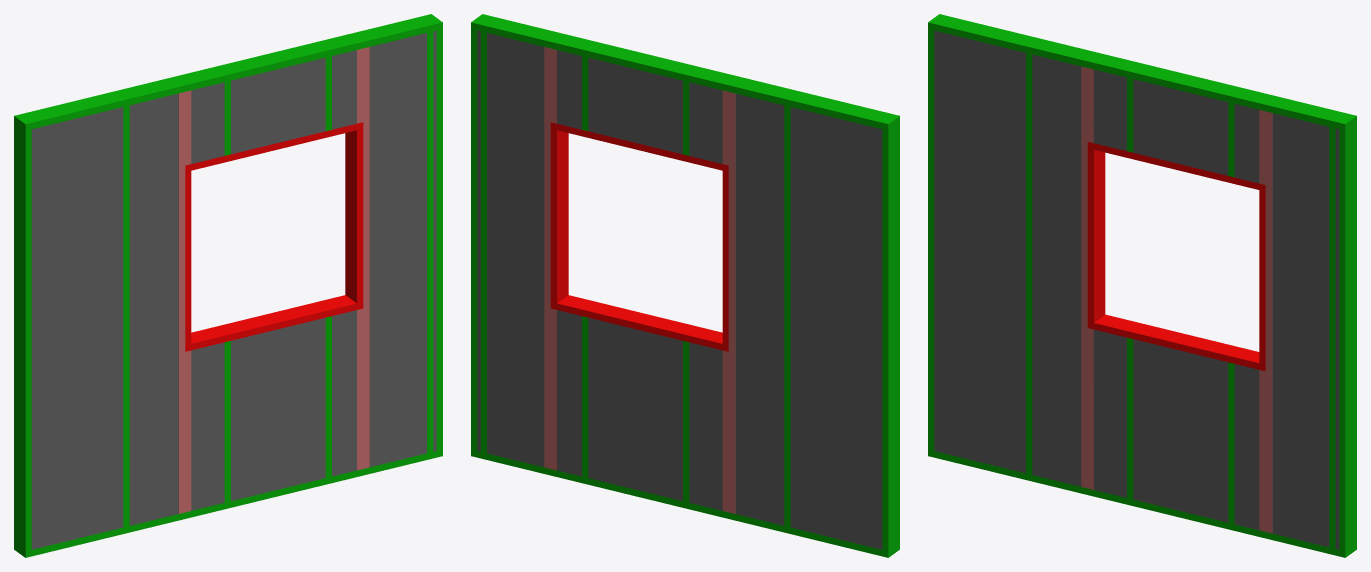
File: result.glb
3 views of the same model, side by side, from view 1: azimuth 30°, elevation 25°; view 2: azimuth 150°, elevation 25°; view 3: azimuth 330°, elevation 25° (orthographic).
Visible parts, largest first — view 1: c43186cd-cca0-4cd8-822e-112844c010d2__undefined, 6406b3a0-2b16-4bc1-94ac-7ab14961befd__undefined, ab630891-8b70-4fee-b545-52c169589d08__undefined, 14b1b70e-807d-4171-885c-bdac1132f8e3__undefined, af051829-252c-45c4-8782-77f385ae97b2__undefined, 05aac3ac-e274-4364-bee9-a1e62d0a8262__undefined, 094f6051-484f-42f7-8db3-888324bc1f29__undefined, f755160d-487f-4156-94f8-e8ed9564ac3d__undefined, 162b48e8-5092-427a-a6a5-3302c010df2a__undefined, 6dc3b1ce-3c11-4a77-8eb4-d4cdc3d5f2e1__undefined, d74f65d0-4813-4b06-89c7-f4ab20582bbe__frameRight, 92eee44d-4cd2-4de0-99d3-6ae736a5a68b__undefined (+14 smaller); view 2: c43186cd-cca0-4cd8-822e-112844c010d2__undefined, 6406b3a0-2b16-4bc1-94ac-7ab14961befd__undefined, ab630891-8b70-4fee-b545-52c169589d08__undefined, 14b1b70e-807d-4171-885c-bdac1132f8e3__undefined, af051829-252c-45c4-8782-77f385ae97b2__undefined, 05aac3ac-e274-4364-bee9-a1e62d0a8262__undefined, 094f6051-484f-42f7-8db3-888324bc1f29__undefined, f755160d-487f-4156-94f8-e8ed9564ac3d__undefined, 162b48e8-5092-427a-a6a5-3302c010df2a__undefined, 6dc3b1ce-3c11-4a77-8eb4-d4cdc3d5f2e1__undefined, d74f65d0-4813-4b06-89c7-f4ab20582bbe__frameRight, 92eee44d-4cd2-4de0-99d3-6ae736a5a68b__undefined (+14 smaller); view 3: c43186cd-cca0-4cd8-822e-112844c010d2__undefined, 6406b3a0-2b16-4bc1-94ac-7ab14961befd__undefined, ab630891-8b70-4fee-b545-52c169589d08__undefined, 14b1b70e-807d-4171-885c-bdac1132f8e3__undefined, af051829-252c-45c4-8782-77f385ae97b2__undefined, e946c9e1-8c10-44a5-9225-12ad92e219d7__undefined, 094f6051-484f-42f7-8db3-888324bc1f29__undefined, f755160d-487f-4156-94f8-e8ed9564ac3d__undefined, 162b48e8-5092-427a-a6a5-3302c010df2a__undefined, fe992bf5-756b-4db1-a935-9eb1a053394a__undefined, af962491-0eb2-49f7-a39c-f1177534f768__frameLeft, 92eee44d-4cd2-4de0-99d3-6ae736a5a68b__undefined (+14 smaller).
Boxes of the visible parts, left/top/right/bottom form: c43186cd-cca0-4cd8-822e-112844c010d2__undefined: left=31, top=107, right=123, bottom=549; 6406b3a0-2b16-4bc1-94ac-7ab14961befd__undefined: left=369, top=33, right=426, bottom=467; ab630891-8b70-4fee-b545-52c169589d08__undefined: left=129, top=93, right=178, bottom=525; 14b1b70e-807d-4171-885c-bdac1132f8e3__undefined: left=231, top=317, right=325, bottom=500; af051829-252c-45c4-8782-77f385ae97b2__undefined: left=14, top=14, right=442, bottom=130; 05aac3ac-e274-4364-bee9-a1e62d0a8262__undefined: left=14, top=122, right=31, bottom=551; 094f6051-484f-42f7-8db3-888324bc1f29__undefined: left=231, top=57, right=325, bottom=154; f755160d-487f-4156-94f8-e8ed9564ac3d__undefined: left=191, top=342, right=224, bottom=510; 162b48e8-5092-427a-a6a5-3302c010df2a__undefined: left=332, top=310, right=356, bottom=476; 6dc3b1ce-3c11-4a77-8eb4-d4cdc3d5f2e1__undefined: left=178, top=92, right=185, bottom=513; d74f65d0-4813-4b06-89c7-f4ab20582bbe__frameRight: left=345, top=129, right=363, bottom=303; 92eee44d-4cd2-4de0-99d3-6ae736a5a68b__undefined: left=14, top=449, right=442, bottom=557; c43186cd-cca0-4cd8-822e-112844c010d2__undefined: left=790, top=107, right=882, bottom=549; 6406b3a0-2b16-4bc1-94ac-7ab14961befd__undefined: left=487, top=33, right=544, bottom=467; ab630891-8b70-4fee-b545-52c169589d08__undefined: left=735, top=93, right=784, bottom=525; 14b1b70e-807d-4171-885c-bdac1132f8e3__undefined: left=588, top=317, right=682, bottom=500; af051829-252c-45c4-8782-77f385ae97b2__undefined: left=471, top=14, right=899, bottom=130; 05aac3ac-e274-4364-bee9-a1e62d0a8262__undefined: left=882, top=122, right=899, bottom=551; 094f6051-484f-42f7-8db3-888324bc1f29__undefined: left=588, top=57, right=682, bottom=154; f755160d-487f-4156-94f8-e8ed9564ac3d__undefined: left=689, top=342, right=722, bottom=510; 162b48e8-5092-427a-a6a5-3302c010df2a__undefined: left=557, top=310, right=581, bottom=476; 6dc3b1ce-3c11-4a77-8eb4-d4cdc3d5f2e1__undefined: left=728, top=92, right=735, bottom=513; d74f65d0-4813-4b06-89c7-f4ab20582bbe__frameRight: left=550, top=129, right=568, bottom=303; 92eee44d-4cd2-4de0-99d3-6ae736a5a68b__undefined: left=471, top=449, right=899, bottom=557; c43186cd-cca0-4cd8-822e-112844c010d2__undefined: left=934, top=30, right=1025, bottom=473; 6406b3a0-2b16-4bc1-94ac-7ab14961befd__undefined: left=1272, top=113, right=1329, bottom=547; ab630891-8b70-4fee-b545-52c169589d08__undefined: left=1032, top=54, right=1081, bottom=486; 14b1b70e-807d-4171-885c-bdac1132f8e3__undefined: left=1133, top=339, right=1228, bottom=522; af051829-252c-45c4-8782-77f385ae97b2__undefined: left=928, top=14, right=1356, bottom=130; e946c9e1-8c10-44a5-9225-12ad92e219d7__undefined: left=1339, top=122, right=1356, bottom=551; 094f6051-484f-42f7-8db3-888324bc1f29__undefined: left=1133, top=79, right=1228, bottom=175; f755160d-487f-4156-94f8-e8ed9564ac3d__undefined: left=1093, top=329, right=1126, bottom=497; 162b48e8-5092-427a-a6a5-3302c010df2a__undefined: left=1234, top=364, right=1259, bottom=530; fe992bf5-756b-4db1-a935-9eb1a053394a__undefined: left=1265, top=111, right=1272, bottom=533; af962491-0eb2-49f7-a39c-f1177534f768__frameLeft: left=1087, top=148, right=1105, bottom=322; 92eee44d-4cd2-4de0-99d3-6ae736a5a68b__undefined: left=928, top=449, right=1356, bottom=557.
Size of the model in its own units: 2518 by 2500 by 120.
